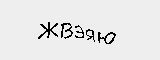В: (60, 20, 73, 40)
Ж: (37, 20, 59, 41)
Э: (73, 22, 86, 40)
Ю: (95, 28, 117, 47)
Я: (83, 28, 97, 43)
